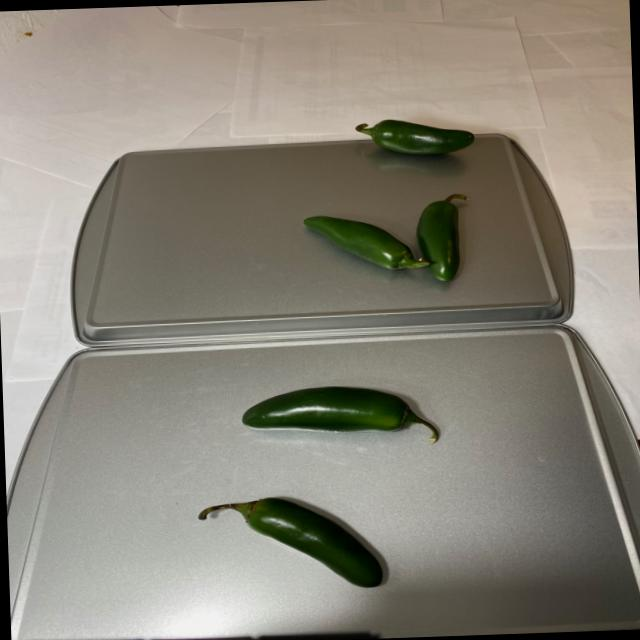chilli: (191, 378, 452, 587), (290, 114, 492, 308)
